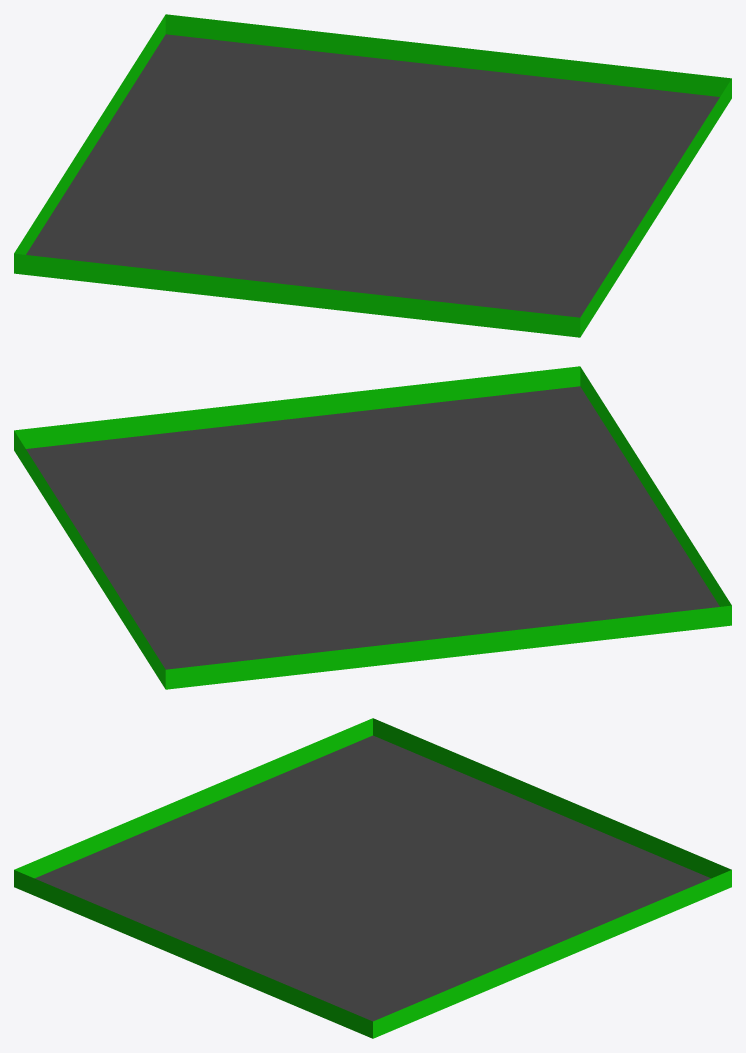
Rendered from End.fbx.
3 renders of one model, top to bottom at view 1: azimuth 30°, elevation 25°; view 2: azimuth 150°, elevation 25°; view 3: azimuth 270°, elevation 25°, orthographic. The views are drawn at different scales.
Parts seen in each view (by area): view 1: Fin; view 2: Fin; view 3: Fin.
Part boxes in pixels (box(x1,y1,x2,y2)): Fin: box(14, 14, 731, 337); Fin: box(14, 366, 731, 689); Fin: box(14, 718, 731, 1038).
Bounding box in the file's own units: 15 × 0.4 × 15.
